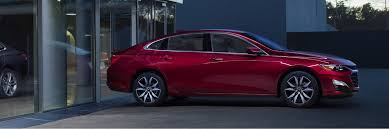car: (104, 28, 359, 108)
